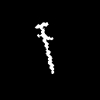double_crochet: (35, 23, 53, 73)
